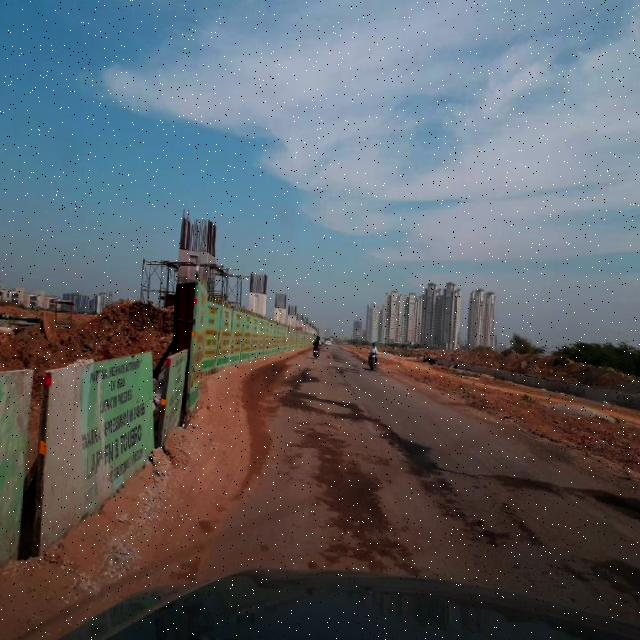D00: (372, 413, 415, 462), (339, 363, 368, 415)
D10: (422, 459, 638, 502), (264, 398, 372, 436)
